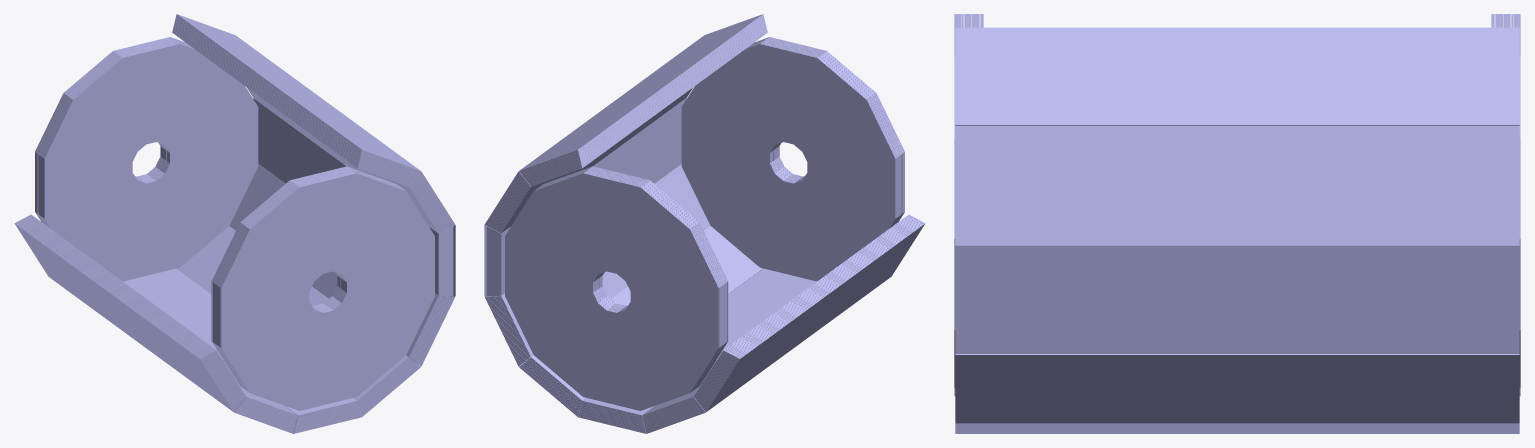
File: ECal.gltf
3 renders of one model, left to right at view 1: azimuth 30°, elevation 25°; view 2: azimuth 150°, elevation 25°; view 3: azimuth 270°, elevation 25°, orthographic. The views are drawn at different scales.
Parts seen in each view (by area): view 1: slice70x50_49, slice00x50_50, slice70x49_5, slice70x49_6, slice0_0, slice0_3, slice0_2, slice0_1, slice0_7; view 2: slice70x50_99, slice00x50_0, slice70x49_5, slice70x49_6, slice0_0, slice0_3, slice0_2, slice0_1, slice0_7; view 3: slice70x49_7, slice70x49_0, slice70x49_6, slice70x49_1, slice70x49_2, slice00x46_0, slice30x46_6, slice00x48_6, slice10x48_1, slice00x49_0, slice00x49_1, slice00x49_7 (+2 smaller).
Part boxes in pixels (bbox=[...]): slice70x50_49: bbox=[221, 173, 434, 410]; slice00x50_50: bbox=[44, 44, 258, 281]; slice70x49_5: bbox=[15, 224, 233, 411]; slice70x49_6: bbox=[177, 14, 420, 170]; slice0_0: bbox=[253, 98, 438, 295]; slice0_3: bbox=[123, 268, 356, 415]; slice0_2: bbox=[177, 226, 408, 400]; slice0_1: bbox=[230, 164, 438, 356]; slice0_7: bbox=[246, 87, 438, 232]; slice70x50_99: bbox=[505, 173, 718, 410]; slice00x50_0: bbox=[681, 44, 895, 281]; slice70x49_5: bbox=[706, 224, 924, 411]; slice70x49_6: bbox=[519, 14, 762, 170]; slice0_0: bbox=[501, 98, 686, 295]; slice0_3: bbox=[583, 268, 816, 415]; slice0_2: bbox=[531, 226, 762, 400]; slice0_1: bbox=[501, 164, 709, 356]; slice0_7: bbox=[501, 87, 693, 232]; slice70x49_7: bbox=[955, 126, 1519, 244]; slice70x49_0: bbox=[955, 246, 1519, 353]; slice70x49_6: bbox=[955, 27, 1519, 125]; slice70x49_1: bbox=[955, 354, 1519, 423]; slice70x49_2: bbox=[955, 423, 1519, 433]; slice00x46_0: bbox=[955, 245, 1519, 245]; slice30x46_6: bbox=[955, 126, 1519, 126]; slice00x48_6: bbox=[955, 125, 1519, 125]; slice10x48_1: bbox=[955, 354, 1519, 354]; slice00x49_0: bbox=[955, 245, 1519, 245]; slice00x49_1: bbox=[955, 354, 1519, 354]; slice00x49_7: bbox=[955, 245, 1519, 245].
Size of the model in its own units: 40.75 by 40.75 by 51.49.
